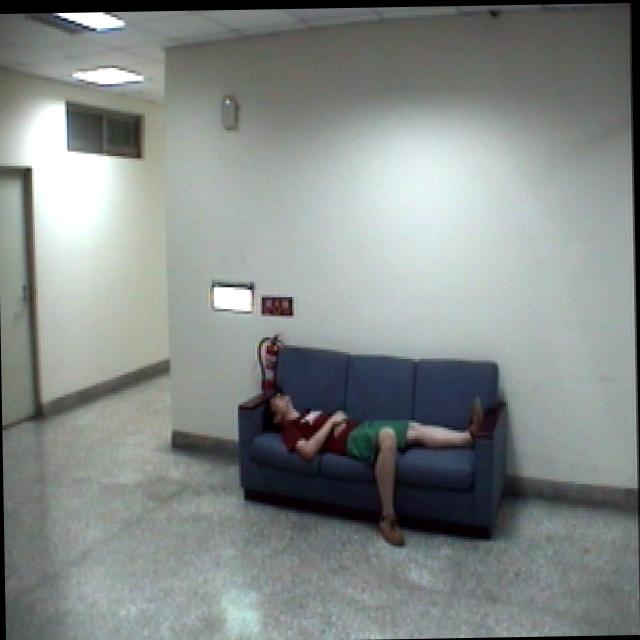lie: (259, 382, 494, 556)
